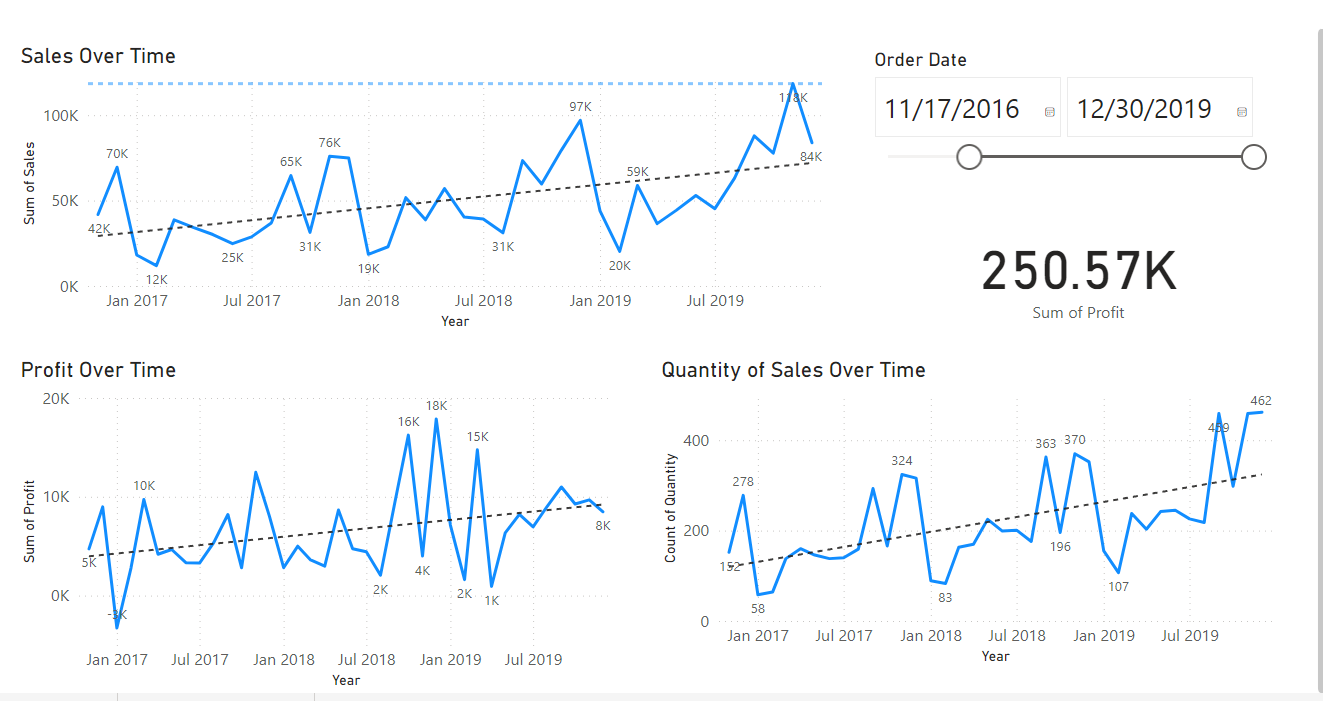

Layout of this report page (visuals, bound fields, positions):
{"tool":"powerbi","page":{"name":"Time Based Analysis","canvas":[1280,720],"ordinal":1},"visuals":[{"type":"lineChart","title":"Sales Over Time","fields":{"Y":["Sum(Orders.Sales)"],"Category":["Orders.Order Date.Variation.Date Hierarchy.Year","Orders.Order Date.Variation.Date Hierarchy.Quarter","Orders.Order Date.Variation.Date Hierarchy.Month"]},"box":[0,70.5,830.4,290.2],"z":0},{"type":"lineChart","title":"Profit  Over Time","fields":{"Category":["Orders.Order Date.Variation.Date Hierarchy.Year","Orders.Order Date.Variation.Date Hierarchy.Quarter","Orders.Order Date.Variation.Date Hierarchy.Month"],"Y":["Sum(Orders.Profit)"]},"box":[0,384.2,620.7,335.5],"z":1000},{"type":"slicer","fields":{"Values":["Orders.Order Date"]},"box":[845.5,70.5,414.4,167.8],"z":2000},{"type":"lineChart","title":"Quantity of Sales Over Time","fields":{"Category":["Orders.Order Date.Variation.Date Hierarchy.Year","Orders.Order Date.Variation.Date Hierarchy.Quarter","Orders.Order Date.Variation.Date Hierarchy.Month"],"Y":["CountNonNull(Orders.Quantity)"]},"box":[640.8,384.2,639.2,312],"z":3000},{"type":"card","fields":{"Values":["Sum(Orders.Profit)"]},"box":[866.2,215.9,393.2,167.7],"z":4000}]}

Visuals, with their boxes on the page's 1280x720 design canvas (x1, y1, x2, y2). These are canvas units, not pixel positions in the 1323x701 screenshot, which may show the page scaled, cropped or inside an application window:
"Sales Over Time" lineChart: x1=0, y1=70, x2=830, y2=361
"Profit  Over Time" lineChart: x1=0, y1=384, x2=621, y2=720
slicer - Orders.Order Date: x1=846, y1=70, x2=1260, y2=238
"Quantity of Sales Over Time" lineChart: x1=641, y1=384, x2=1280, y2=696
card - Sum(Orders.Profit): x1=866, y1=216, x2=1259, y2=384
